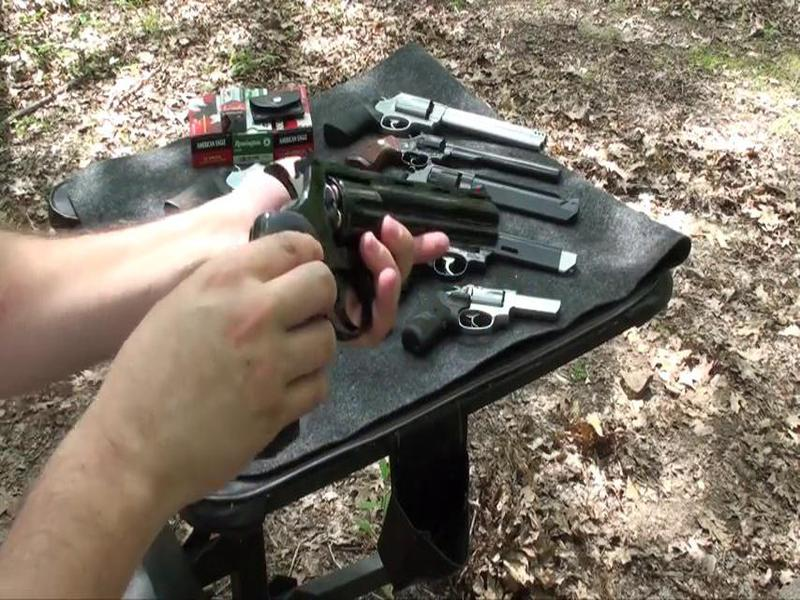Revolver: (244, 133, 493, 452)
